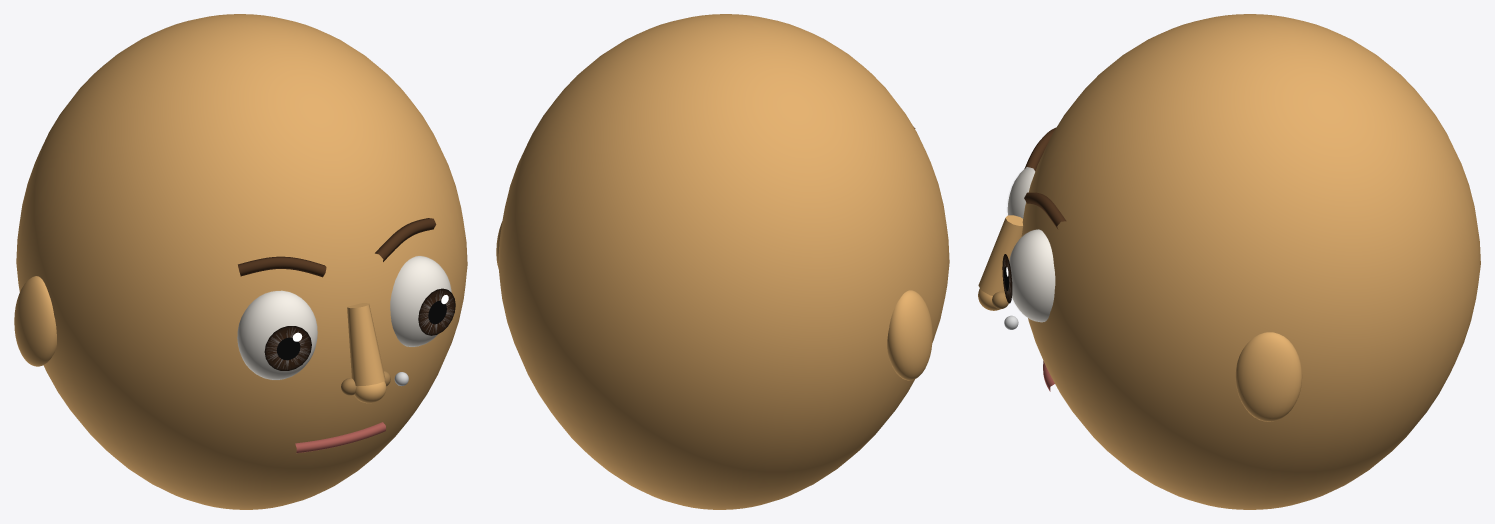
The model's file is 05-piercing-au-nez.glb.
The picture shows the model from 3 angles, left to right: view 1: azimuth 30°, elevation 25°; view 2: azimuth 150°, elevation 25°; view 3: azimuth 270°, elevation 25°; orthographic projection.
Size of what is drawn, in the model's own units: 0.3087 by 0.321 by 0.3166.
10 materials, 1 textured.
